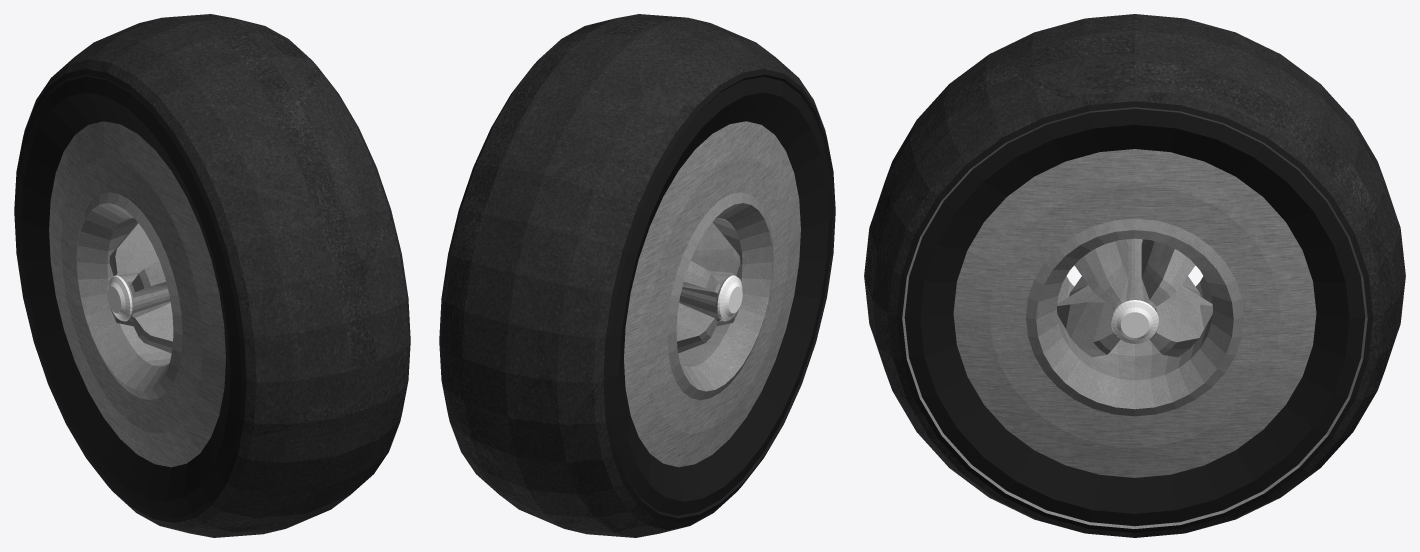
The model's file is tire3.glb.
3 renders of one model, left to right at view 1: azimuth 30°, elevation 25°; view 2: azimuth 150°, elevation 25°; view 3: azimuth 270°, elevation 25°, orthographic. The views are drawn at different scales.
Parts seen in each view (by area): view 1: Cylinder; view 2: Cylinder; view 3: Cylinder.
Boxes of the visible parts, bbox=[...] form: Cylinder: bbox=[14, 14, 410, 537]; Cylinder: bbox=[439, 14, 835, 537]; Cylinder: bbox=[864, 14, 1405, 537].
Size of the model in its own units: 0.264 by 0.615 by 0.615.
Materials: 5 (3 with a texture image).
